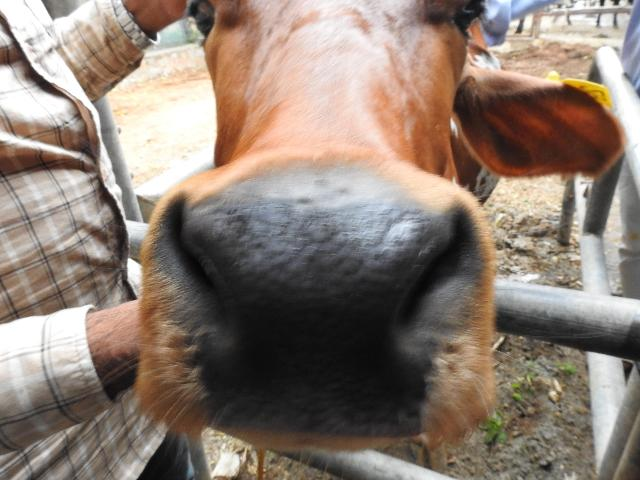Muzzle: (198, 196, 410, 420)
